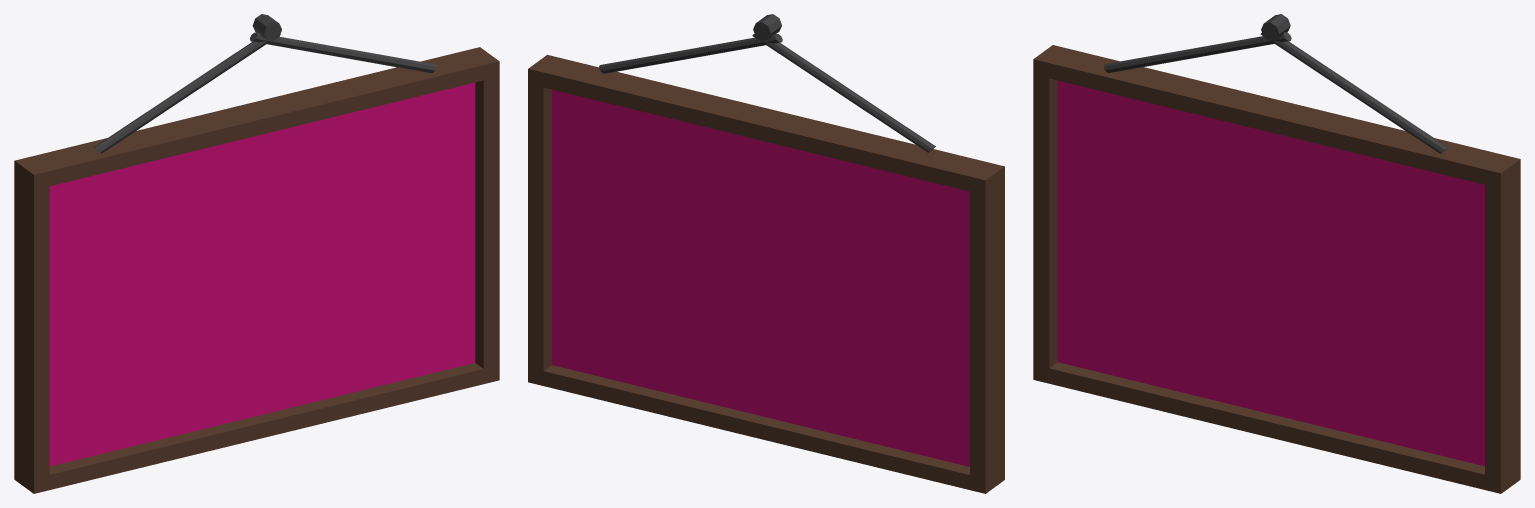
The model's file is Cuadro1.fbx.
3 views of the same model, side by side, from view 1: azimuth 30°, elevation 25°; view 2: azimuth 150°, elevation 25°; view 3: azimuth 330°, elevation 25° (orthographic). The views are drawn at different scales.
Parts seen in each view (by area): view 1: Cube, Cuadro, Cylinder, Cylinder.001, Cylinder.002; view 2: Cube, Cuadro, Cylinder, Cylinder.001, Cylinder.002; view 3: Cube, Cuadro, Cylinder.001, Cylinder, Cylinder.002.
Boxes of the visible parts, x1,y1,x2,y2 form: Cube: (49,82,475,466); Cuadro: (14,47,499,493); Cylinder: (94,34,280,153); Cylinder.001: (250,32,436,72); Cylinder.002: (252,14,281,41); Cube: (552,89,969,466); Cuadro: (528,55,1004,493); Cylinder: (752,34,935,152); Cylinder.001: (599,34,782,73); Cylinder.002: (753,14,781,40); Cube: (1057,80,1484,466); Cuadro: (1033,45,1520,493); Cylinder.001: (1260,33,1447,153); Cylinder: (1103,32,1291,72); Cylinder.002: (1261,14,1290,41).
Size of the model in its own units: 102 by 8.06 by 87.17.
